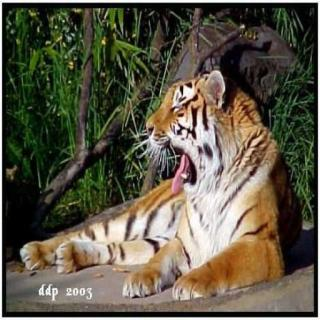Tiger: (22, 55, 309, 283)
